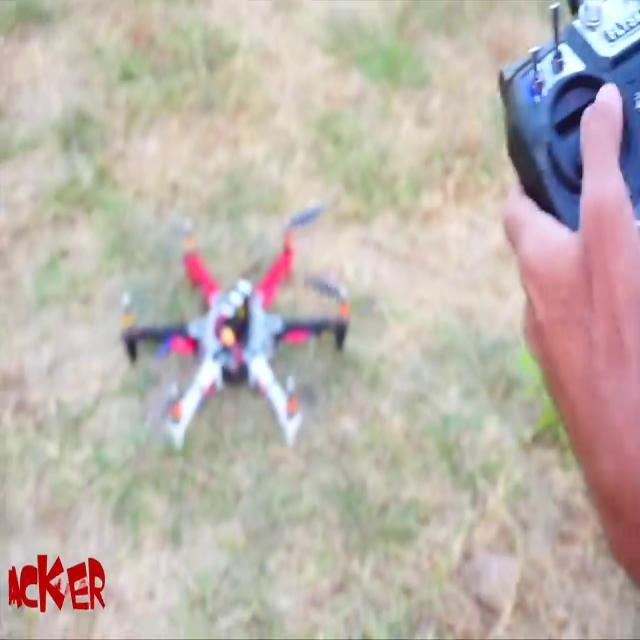drone: (100, 176, 404, 470)
